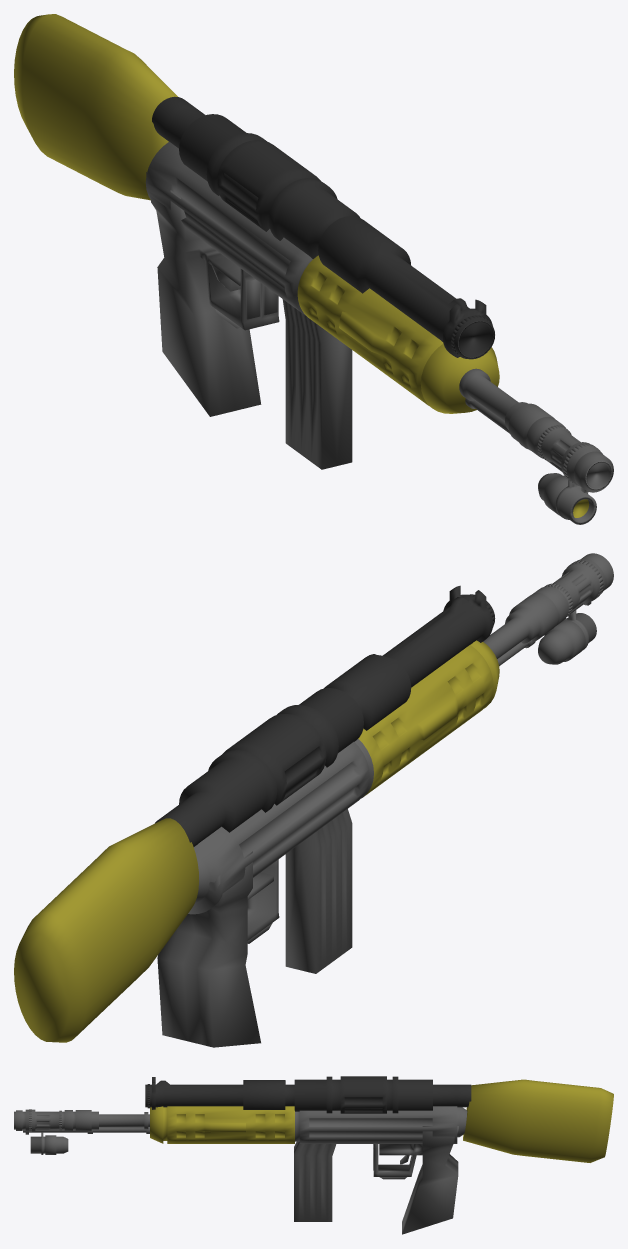
File: HKG3_Aksesoris_Depan2.fbx
3 views of the same model, one above another, from view 1: azimuth 30°, elevation 25°; view 2: azimuth 150°, elevation 25°; view 3: azimuth 270°, elevation 25° (orthographic). The views are drawn at different scales.
Visible parts, largest first — view 1: Objek HKG 4, Objek HKG 2, Objek HKG 6, Objek HKG 7, Objek HKG 5, Objek HKG 1, Objek HKG 9; view 2: Objek HKG 6, Objek HKG 4, Objek HKG 2, Objek HKG 7, Objek HKG 5, Objek HKG 1, Objek HKG 9; view 3: Objek HKG 2, Objek HKG 6, Objek HKG 4, Objek HKG 7, Objek HKG 5, Objek HKG 1, Objek HKG 9, Objek HKG 3.
Part boxes in pixels (x1,y1,x2,y2): Objek HKG 4: (152,96,494,359); Objek HKG 2: (145,141,499,413); Objek HKG 6: (14,14,177,200); Objek HKG 7: (146,172,279,416); Objek HKG 5: (282,299,352,469); Objek HKG 1: (459,368,613,492); Objek HKG 9: (538,473,596,524); Objek HKG 6: (14,818,198,1042); Objek HKG 4: (155,585,495,846); Objek HKG 2: (188,640,499,914); Objek HKG 7: (157,851,279,1047); Objek HKG 5: (285,809,352,973); Objek HKG 1: (483,553,613,658); Objek HKG 9: (538,610,596,664); Objek HKG 2: (150,1106,467,1143); Objek HKG 6: (463,1079,613,1162); Objek HKG 4: (145,1076,471,1113); Objek HKG 7: (373,1126,458,1234); Objek HKG 5: (294,1141,336,1221); Objek HKG 1: (14,1109,149,1134); Objek HKG 9: (30,1132,68,1154); Objek HKG 3: (23,1127,149,1133).
Size of the model in its own units: 55.47 by 174 by 631.
